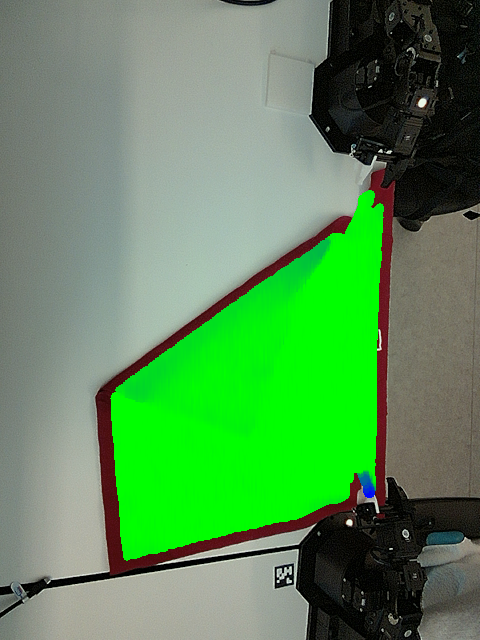V: (220, 406, 265, 447)
